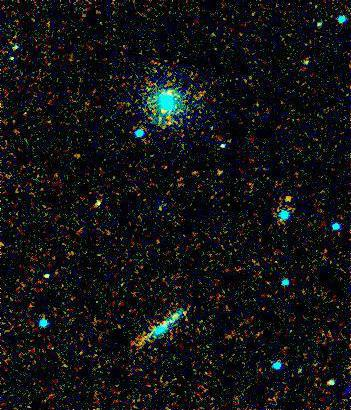star: (273, 183, 303, 213)
